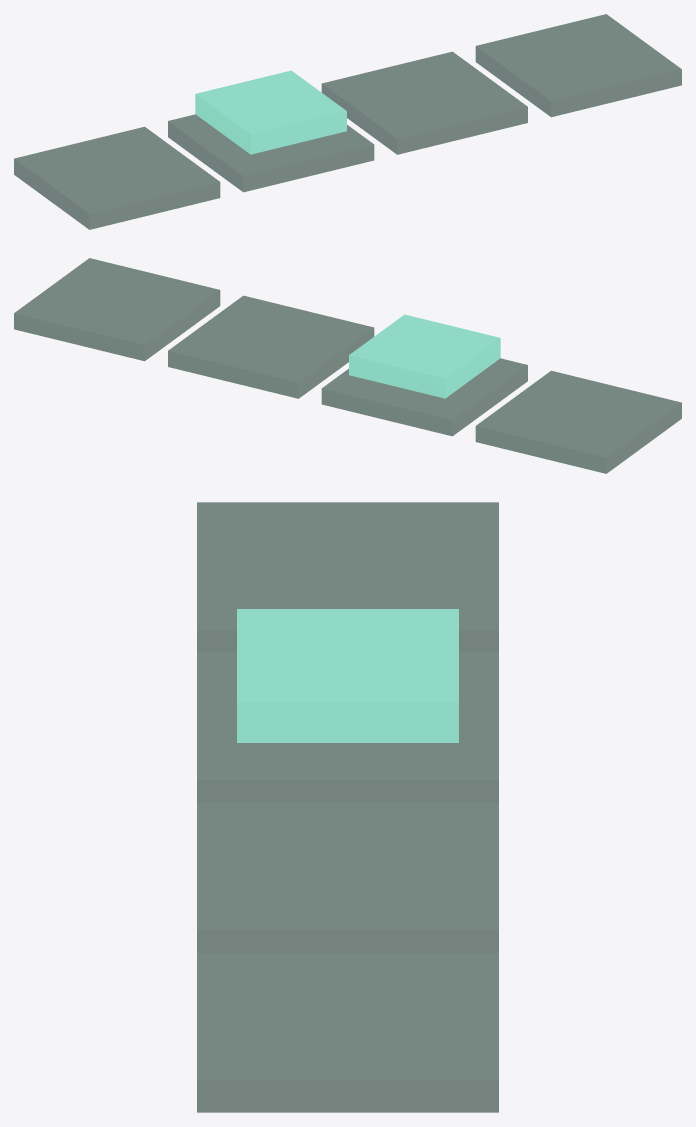
3 renders of one model, top to bottom at view 1: azimuth 30°, elevation 25°; view 2: azimuth 150°, elevation 25°; view 3: azimuth 270°, elevation 25°, orthographic. The views are drawn at different scales.
Visible parts, largest first — view 1: cell_1, cell_4, cell_3, selector, cell_2; view 2: cell_1, cell_4, cell_3, selector, cell_2; view 3: cell_4, cell_3, cell_1, selector, cell_2.
Part boxes in pixels (x1,y1,x2,y2): cell_1: (14, 126, 220, 229); cell_4: (475, 14, 681, 117); cell_3: (321, 51, 527, 154); selector: (195, 70, 346, 154); cell_2: (168, 114, 374, 192); cell_1: (475, 370, 681, 473); cell_4: (14, 258, 220, 361); cell_3: (168, 295, 374, 398); selector: (349, 314, 500, 398); cell_2: (321, 358, 527, 436); cell_4: (197, 953, 498, 1112); cell_3: (197, 802, 498, 952); cell_1: (197, 502, 498, 652); selector: (237, 609, 458, 742); cell_2: (197, 652, 498, 802).
Size of the model in its own units: 1.54 by 0.115 by 0.34.
